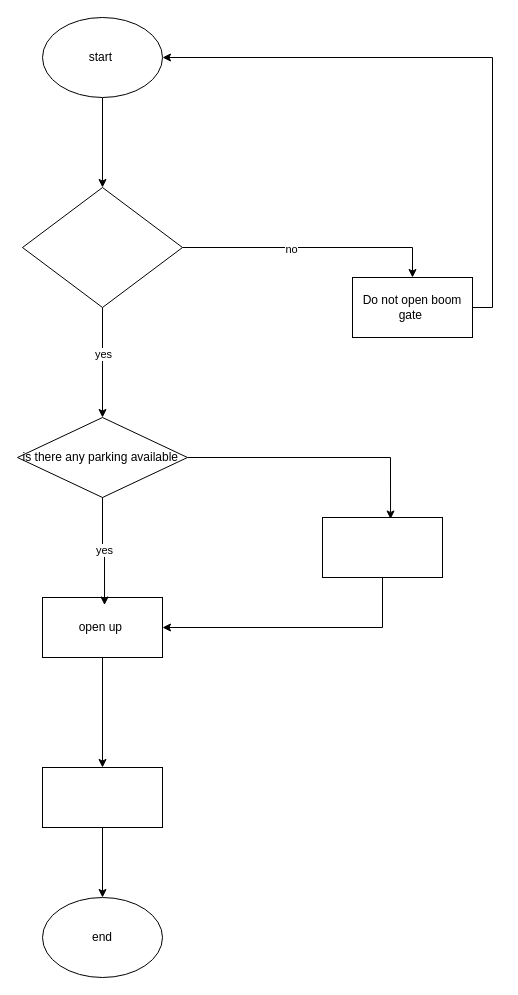
The diagram is 518 pixels wide and 995 high, and some of its shapes have lost their labels. The shapes that lost their labels are listed below. From the top down, each one's centre as x and y in pixels, then its label:
At point (102, 247): "Is the car in the system?".
At point (382, 547): "Let the car know there is no parking spots".
At point (102, 797): "Tracking number of cars".
